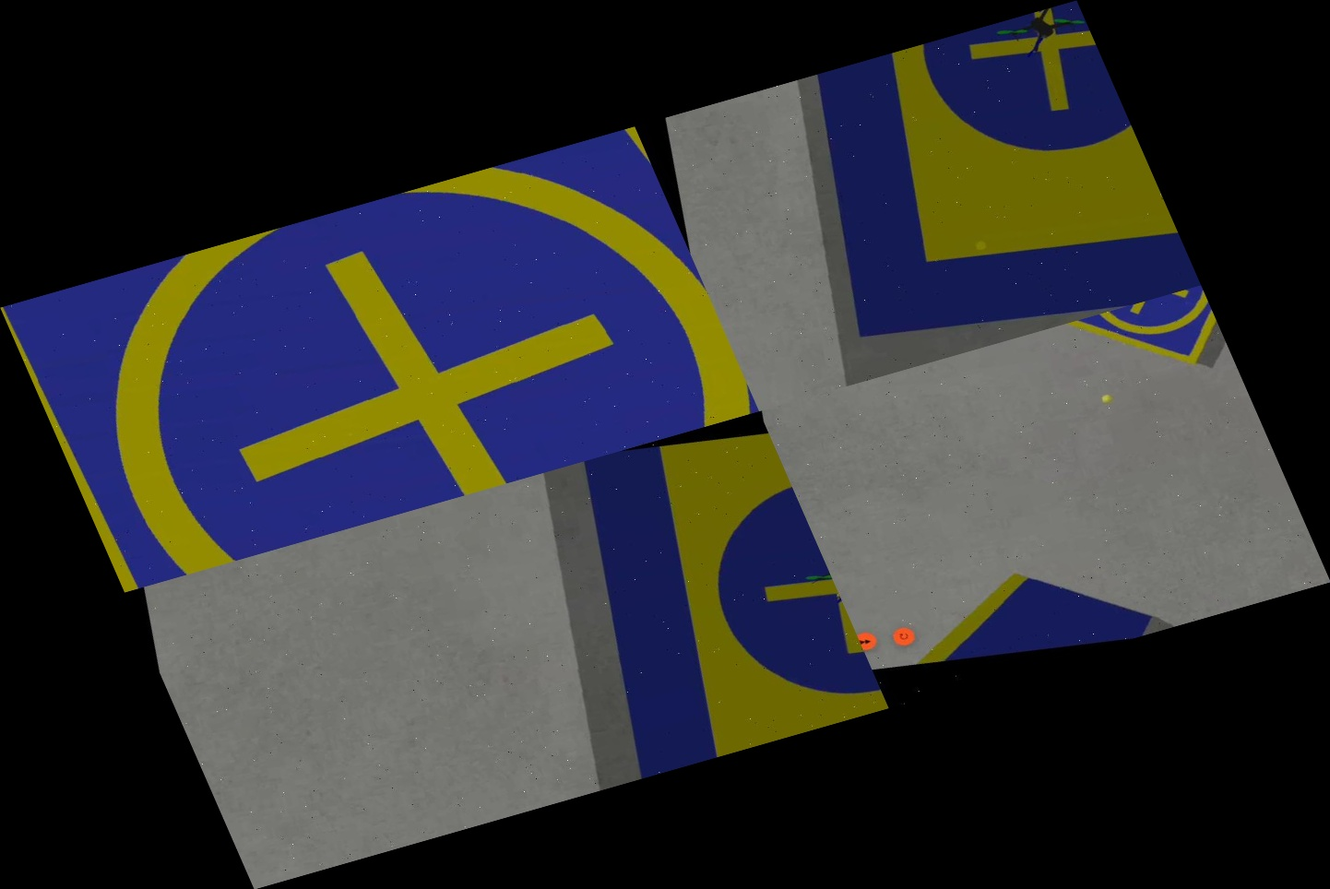large_base: (751, 0, 1200, 378), (486, 411, 888, 785)
small_base: (0, 126, 759, 592), (1039, 285, 1236, 412)
